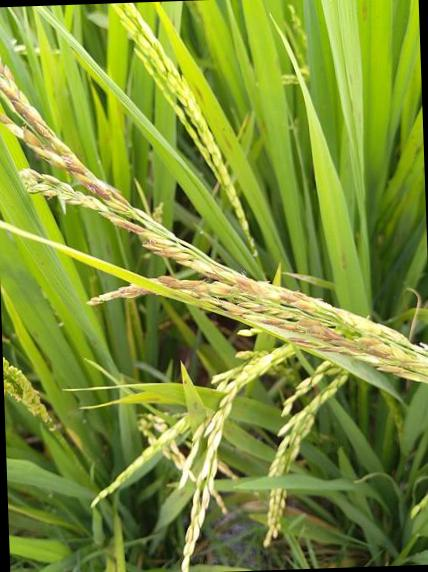Panicle Blight: (22, 130, 135, 206), (265, 316, 389, 358), (0, 57, 54, 136), (158, 276, 232, 303), (140, 237, 196, 262), (85, 286, 152, 306), (273, 287, 315, 310), (100, 213, 145, 233), (185, 489, 200, 543), (202, 262, 229, 281), (236, 279, 266, 296), (377, 364, 428, 373), (229, 306, 269, 315), (0, 114, 12, 124)
